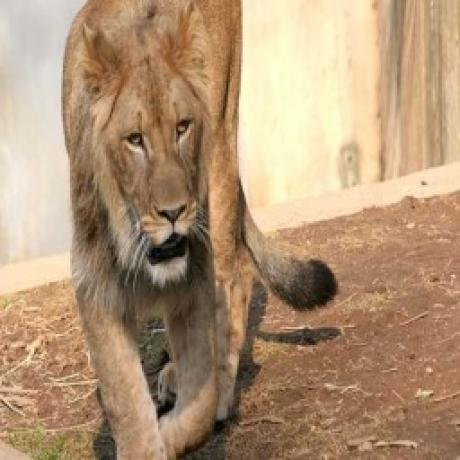Lion: (60, 0, 345, 460)
